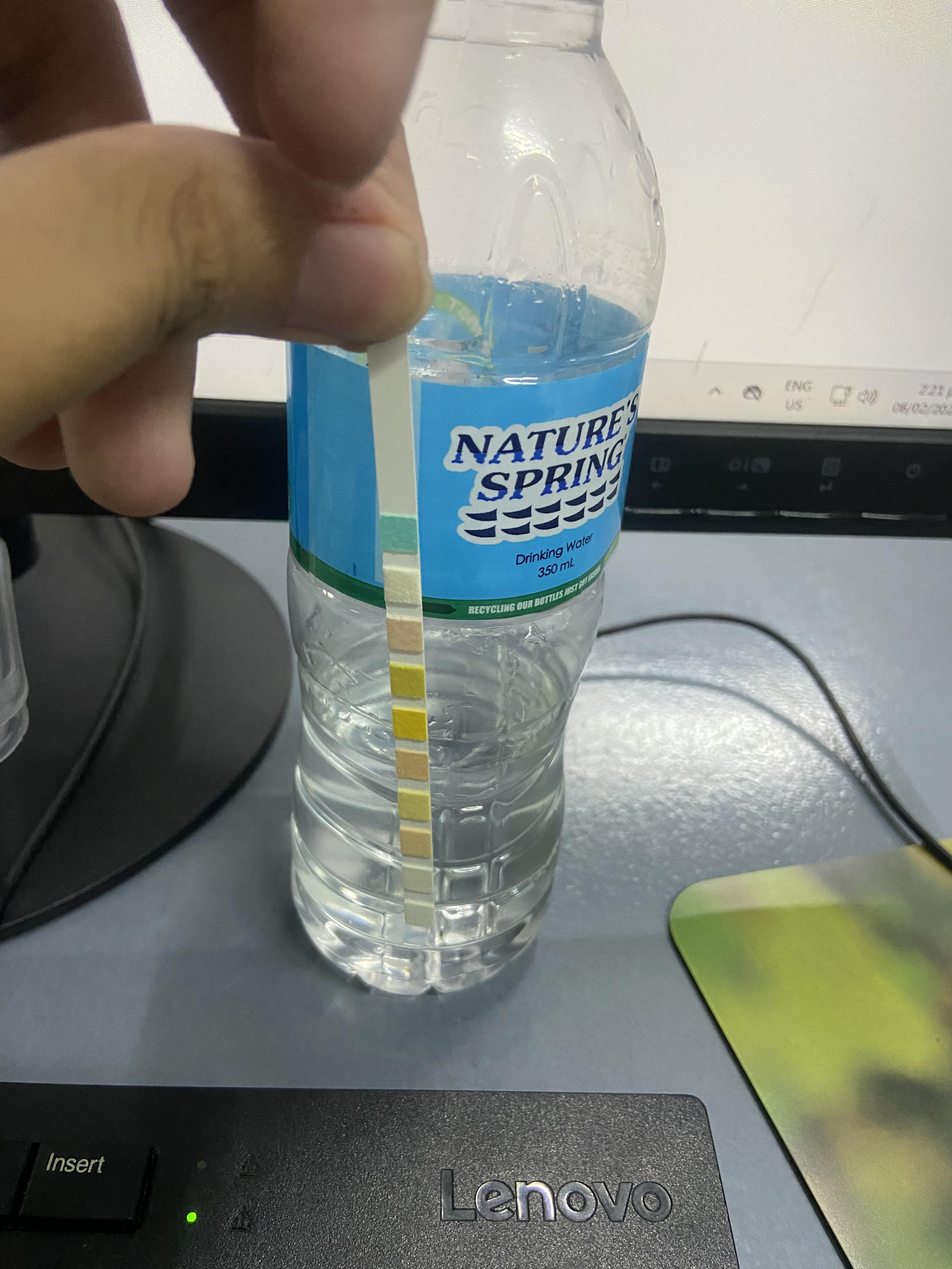Bilirubin: (387, 571, 415, 602)
Blood: (394, 710, 424, 739)
Glucose: (381, 517, 416, 552)
Ketone: (388, 620, 419, 649)
Leukocytes: (406, 904, 432, 924)
Nitrite: (403, 869, 431, 892)
Protein: (399, 793, 428, 820)
SpGravity: (391, 666, 422, 696)
Urobilinogen: (401, 831, 429, 855)
pH: (397, 752, 426, 779)
strip: (368, 350, 434, 928)
